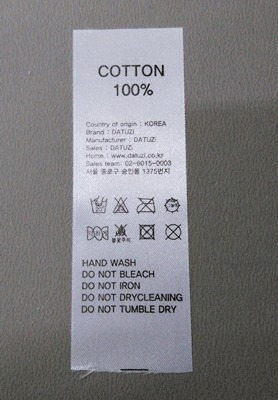ER_hand_wash: (88, 193, 108, 215)
ER_no_dry_clean: (162, 221, 183, 242)
KR_flat_dry_in_shade: (163, 194, 181, 215)
KR_gentle_wring: (85, 223, 109, 243)
KR_no_iron: (133, 194, 157, 216)
KR_no_tumble_dry: (135, 221, 158, 243)
